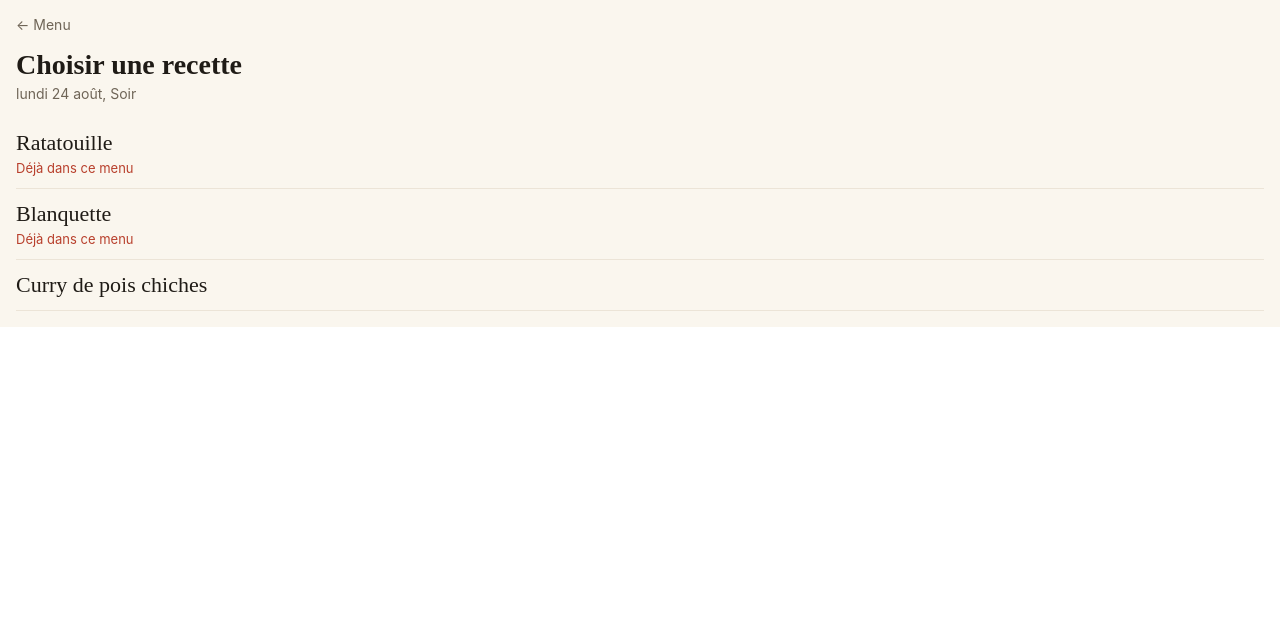
Scenario: SlotChoiceContainer › choisir une recette la porte au créneau visé, et ramène au brouillon
Click the button "Curry de pois chiches".
click(112, 284)  # box [16,260,1264,310]
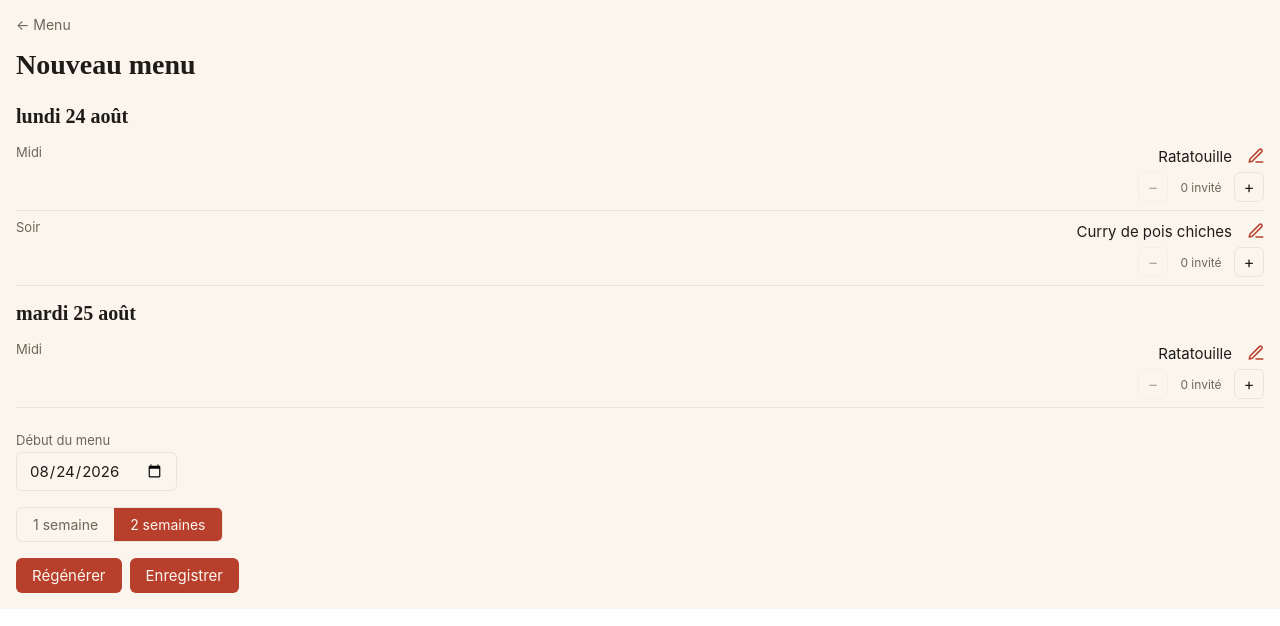
Expected: the button "Régénérer" is shown, [16,558,122,593]
